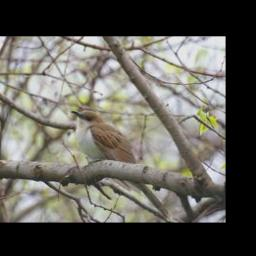Cuckoo: (70, 110, 174, 223)
